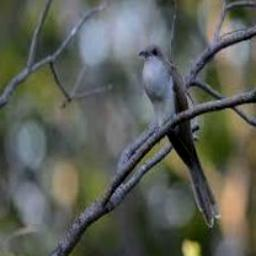Cuckoo: (138, 42, 220, 227)
